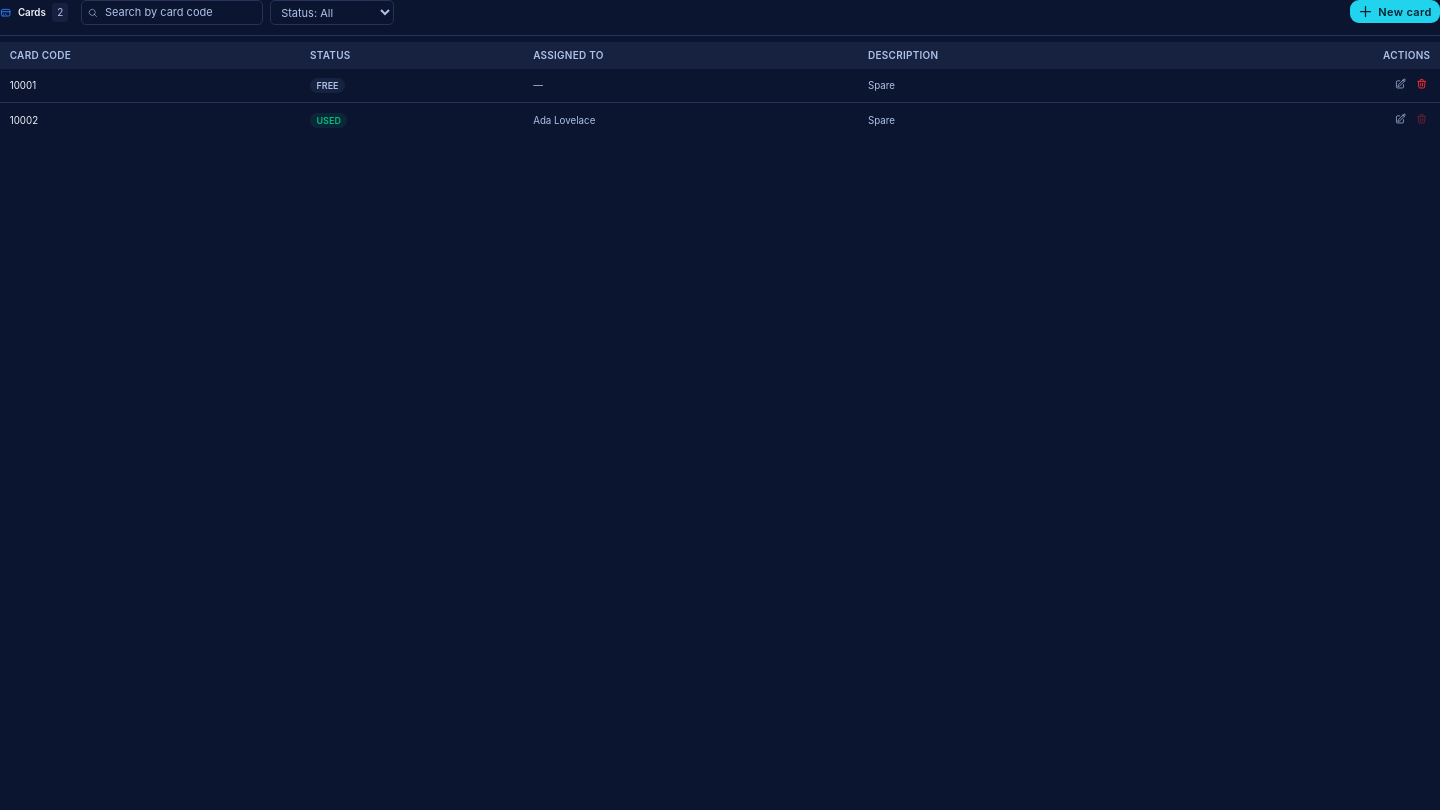
Test: revoking a card › asks for confirmation and sends nothing until it is given
The image size is (1440, 810).
expect the text "10001" is shown: met, box top-left (0, 69), bottom-right (300, 103)
Click the button named "Delete".
click(1421, 84)  # box top-left (1412, 75), bottom-right (1430, 93)
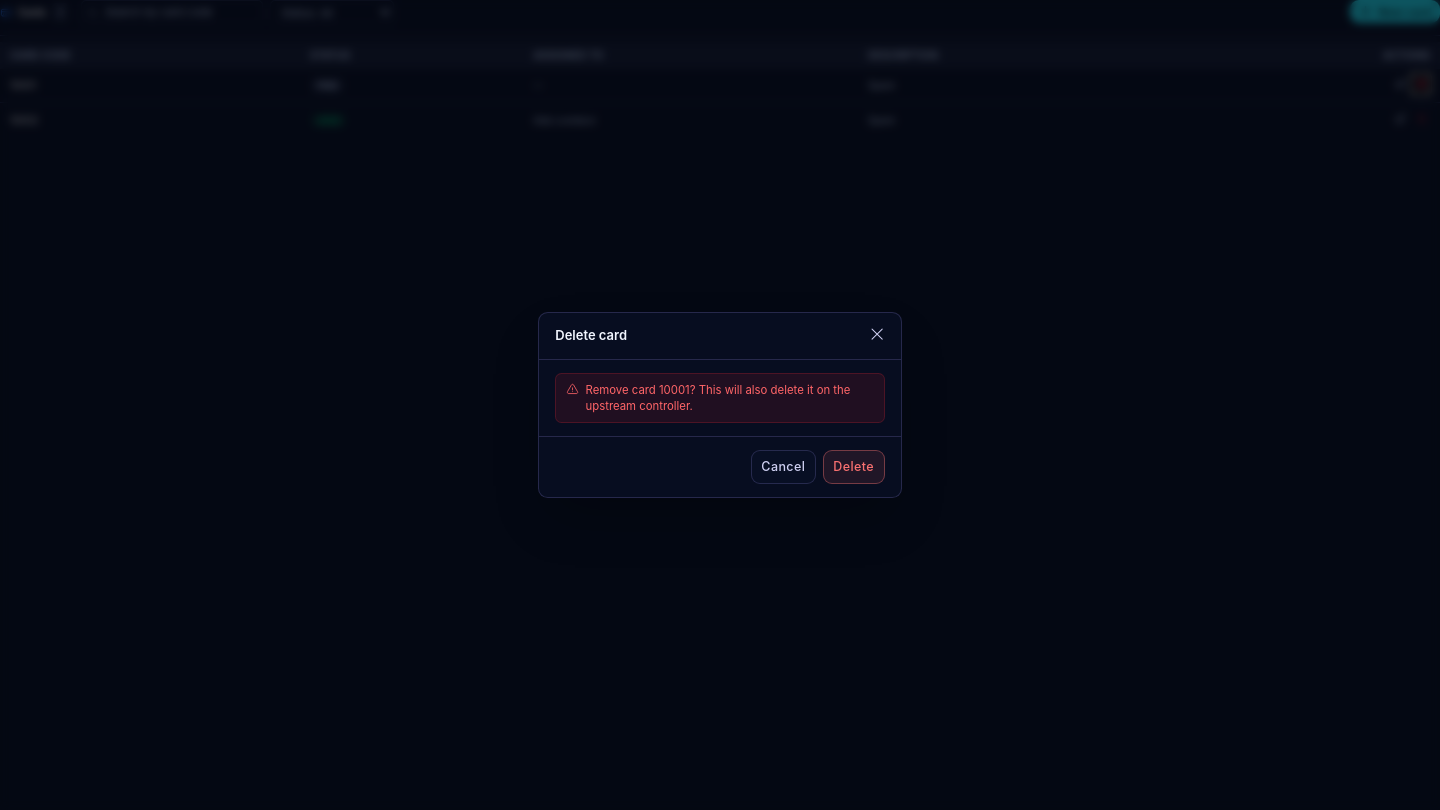
expect the text "delete it on the upstream controller" is shown: met, box top-left (586, 383), bottom-right (850, 413)
